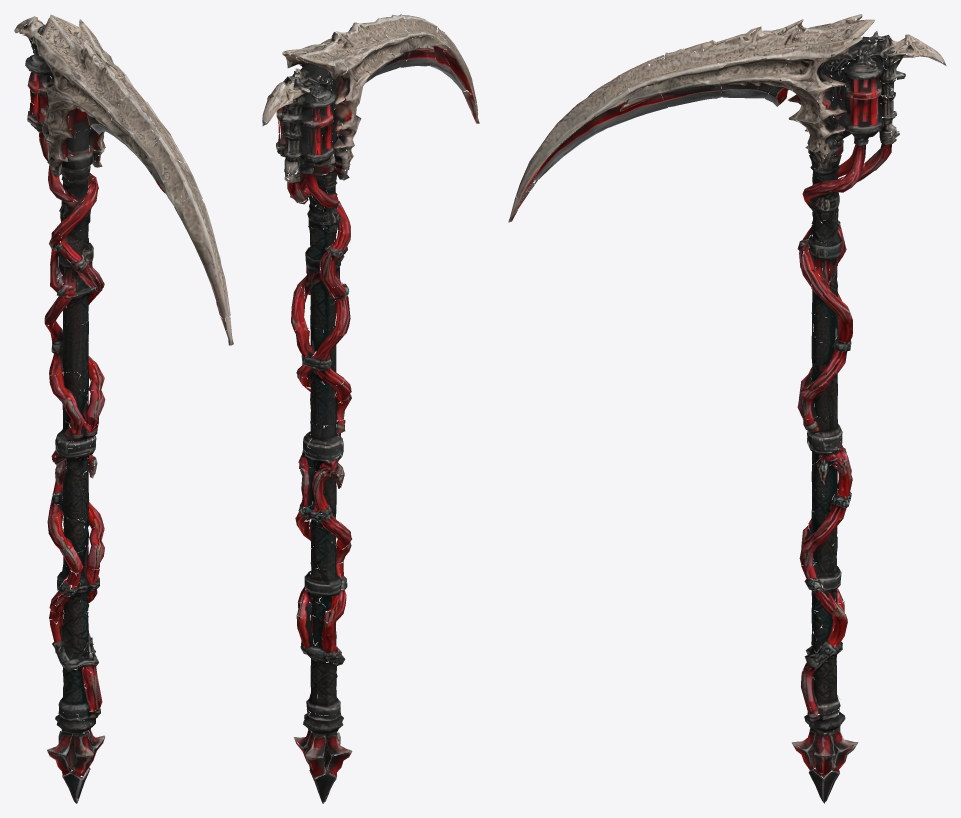
File: w_ain_ward_scythe.glb
3 renders of one model, left to right at view 1: azimuth 30°, elevation 25°; view 2: azimuth 150°, elevation 25°; view 3: azimuth 270°, elevation 25°, orthographic. The views are drawn at different scales.
Parts seen in each view (by area): view 1: tripo_node_0632e025-6134-4704-801d-0e74efbe91b2; view 2: tripo_node_0632e025-6134-4704-801d-0e74efbe91b2; view 3: tripo_node_0632e025-6134-4704-801d-0e74efbe91b2.
Part boxes in pixels (box(x1,y1,x2,y2)): tripo_node_0632e025-6134-4704-801d-0e74efbe91b2: box(14, 14, 233, 803); tripo_node_0632e025-6134-4704-801d-0e74efbe91b2: box(262, 14, 479, 803); tripo_node_0632e025-6134-4704-801d-0e74efbe91b2: box(508, 14, 946, 803).
Bounding box in the file's own units: 0.0851 × 0.9811 × 0.4972.
Materials: 1 (1 with a texture image).
